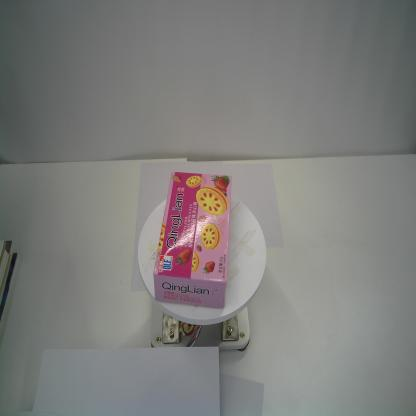Dessert: (149, 170, 234, 313)
